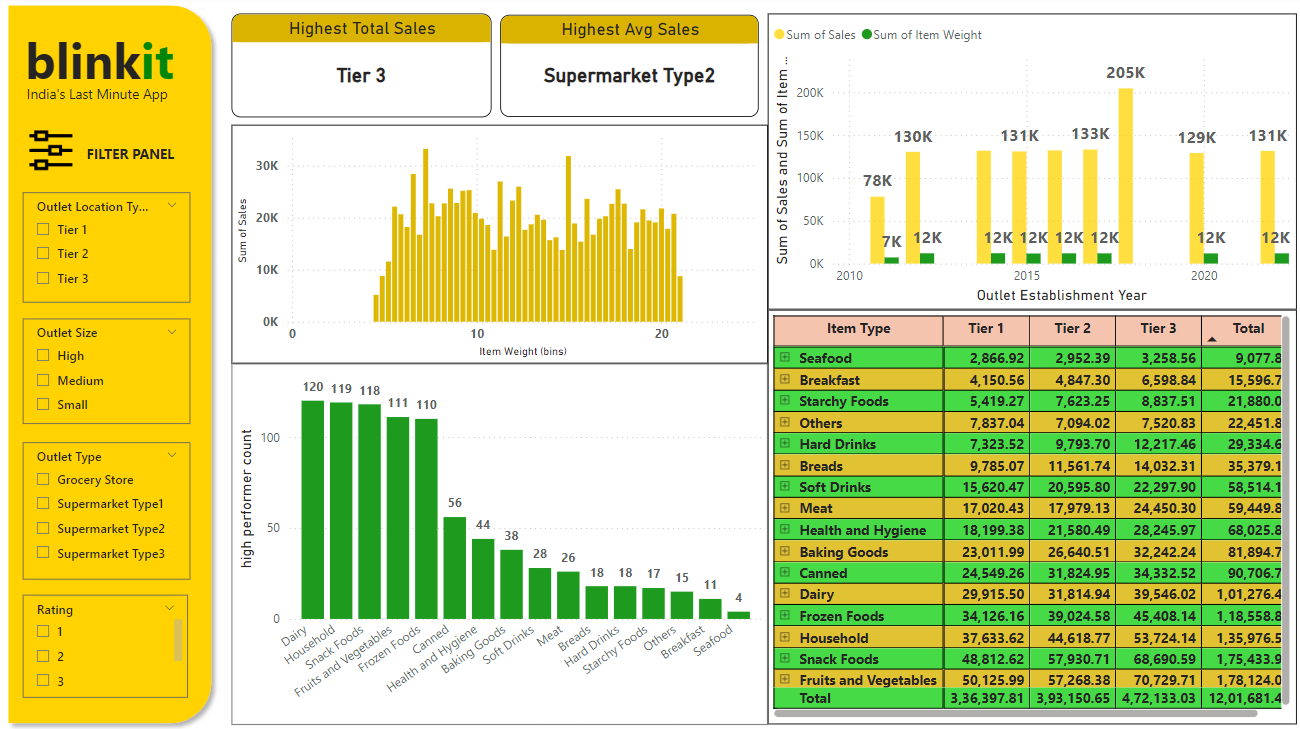

The page's visual inventory and layout, read from the dashboard file:
{"tool":"powerbi","page":{"name":"Page 2","canvas":[1280,720],"ordinal":1},"visuals":[{"type":"clusteredColumnChart","fields":{"Category":["BlinkIT Grocery Data.Outlet Establishment Year"],"Y":["Sum(BlinkIT Grocery Data.Sales)","Sum(BlinkIT Grocery Data.Item Weight)"]},"box":[752.6,17.4,517.5,289.8],"z":0},{"type":"shape","box":[0,0,216.8,720.4],"z":1000},{"type":"slicer","fields":{"Values":["BlinkIT Grocery Data.Outlet Location Type"]},"box":[23.6,191.6,164.2,108.2],"z":2000},{"type":"textbox","box":[21.1,24.9,164.2,77.1],"z":3000},{"type":"textbox","box":[22.4,82.1,165.4,48.5],"z":4000},{"type":"image","box":[20.6,116.6,60.4,70],"z":5000},{"type":"textbox","box":[80.9,140.6,107,29.9],"z":6000},{"type":"slicer","fields":{"Values":["BlinkIT Grocery Data.Outlet Size"]},"box":[23.6,316,164.2,103.2],"z":7000},{"type":"clusteredColumnChart","fields":{"Y":["Table.high performer count"],"Category":["BlinkIT Grocery Data.Item Type"]},"box":[227.6,359.5,525,353.3],"z":8000},{"type":"slicer","fields":{"Values":["BlinkIT Grocery Data.Rating"]},"box":[23.6,585.9,161.7,100.8],"z":9000},{"type":"slicer","fields":{"Values":["BlinkIT Grocery Data.Outlet Type"]},"box":[23.6,436.6,164.2,134.3],"z":10000},{"type":"pivotTable","fields":{"Rows":["BlinkIT Grocery Data.Item Type","BlinkIT Grocery Data.Outlet Establishment Year"],"Values":["Sum(BlinkIT Grocery Data.Sales)"],"Columns":["BlinkIT Grocery Data.Outlet Location Type"]},"box":[752.6,307.3,517.5,405.5],"z":11000},{"type":"lineStackedColumnComboChart","fields":{"Y":["Sum(BlinkIT Grocery Data.Sales)"],"Category":["BlinkIT Grocery Data.Item Weight (bins)"]},"box":[227.6,125.6,525,233.9],"z":12000},{"type":"card","title":"Highest Avg Sales","fields":{"Values":["Table.Highest Average Sales Outlet Type"]},"box":[490.4,18.3,253.1,100.3],"z":13000},{"type":"card","title":"Highest Total Sales","fields":{"Values":["Table.Highest Total Sales Outlet Type"]},"box":[227.4,17.1,254.3,101.5],"z":14000}]}

Visuals, with their boxes in screenshot pixels (x1, y1, x2, y2), scaled from the page's 1280x720 canvas onto the 1300x729 screenshot:
clusteredColumnChart - BlinkIT Grocery Data.Outlet Establishment Year x Sum(BlinkIT Grocery Data.Sales): bbox=[764, 18, 1290, 311]
shape: bbox=[0, 0, 220, 728]
slicer - BlinkIT Grocery Data.Outlet Location Type: bbox=[24, 194, 191, 304]
textbox: bbox=[21, 25, 188, 103]
textbox: bbox=[23, 83, 191, 132]
image: bbox=[21, 118, 82, 189]
textbox: bbox=[82, 142, 191, 173]
slicer - BlinkIT Grocery Data.Outlet Size: bbox=[24, 320, 191, 424]
clusteredColumnChart - Table.high performer count x BlinkIT Grocery Data.Item Type: bbox=[231, 364, 764, 722]
slicer - BlinkIT Grocery Data.Rating: bbox=[24, 593, 188, 695]
slicer - BlinkIT Grocery Data.Outlet Type: bbox=[24, 442, 191, 578]
pivotTable - BlinkIT Grocery Data.Item Type x BlinkIT Grocery Data.Outlet Establishment Year: bbox=[764, 311, 1290, 722]
lineStackedColumnComboChart - Sum(BlinkIT Grocery Data.Sales) x BlinkIT Grocery Data.Item Weight (bins): bbox=[231, 127, 764, 364]
"Highest Avg Sales" card: bbox=[498, 19, 755, 120]
"Highest Total Sales" card: bbox=[231, 17, 489, 120]
